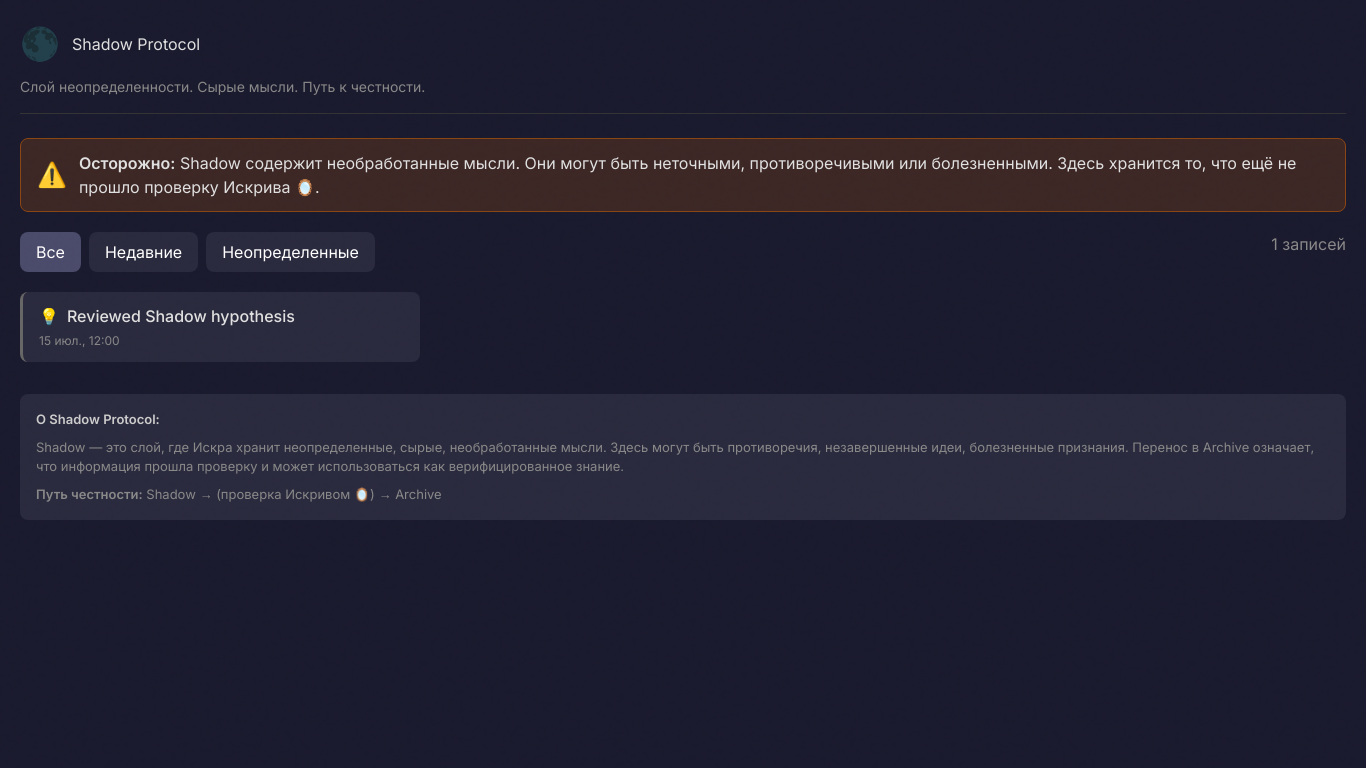
Test: ShadowView promotion boundary › keeps the dialog open and exposes a policy denial without raw mutation
The image size is (1366, 768).
Click the element that starts with "Reviewed Shadow hypothesis" at (220, 327), box [20,292,420,362]
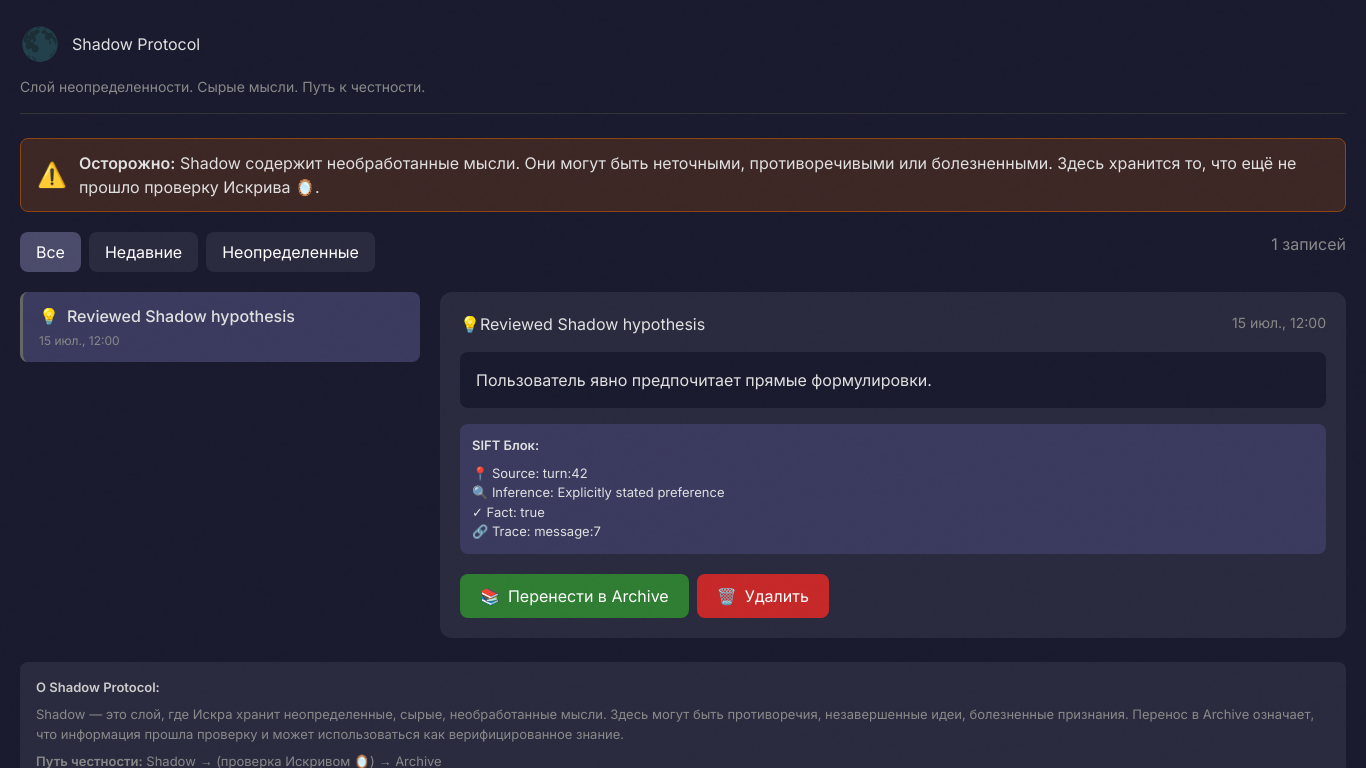
Click the button "📚 Перенести в Archive" at (574, 596), box [460,574,689,618]
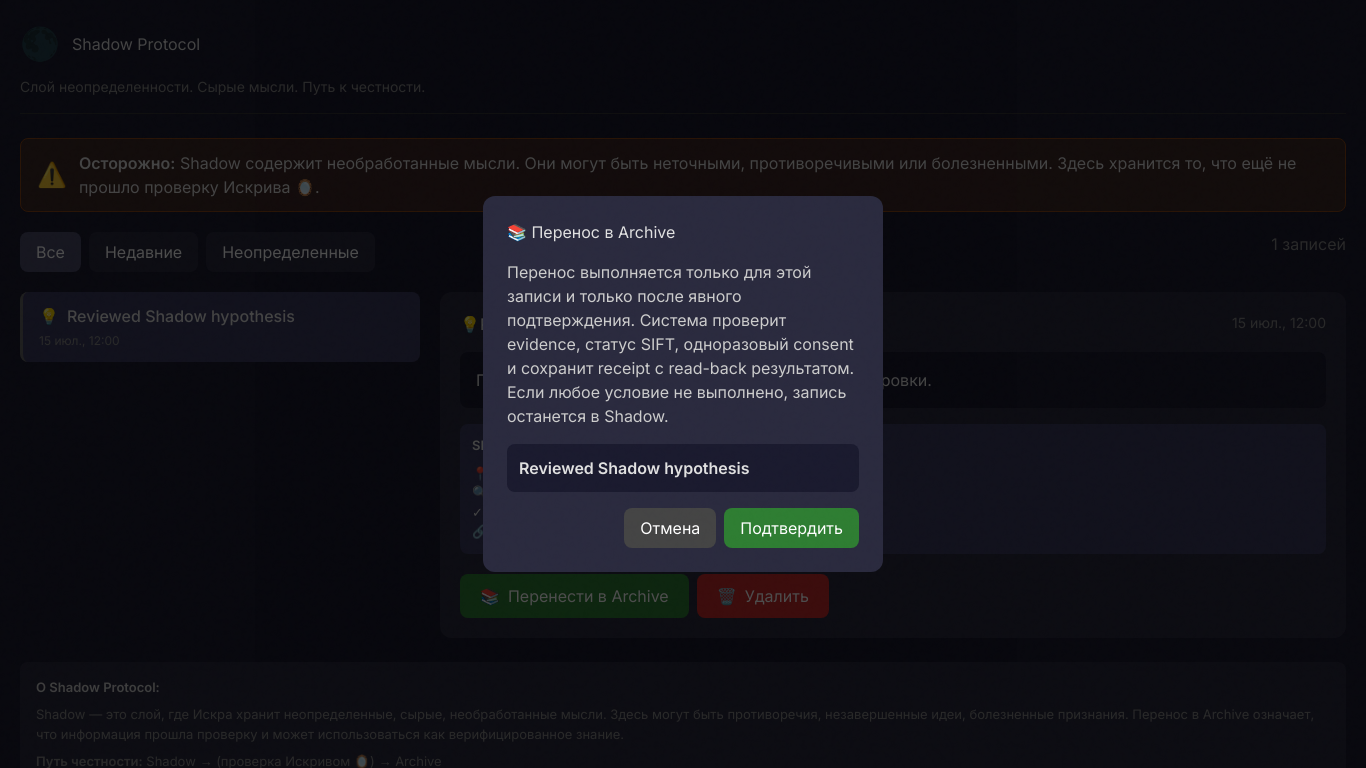
Click the button "Подтвердить" at (792, 528), box [724,508,859,548]
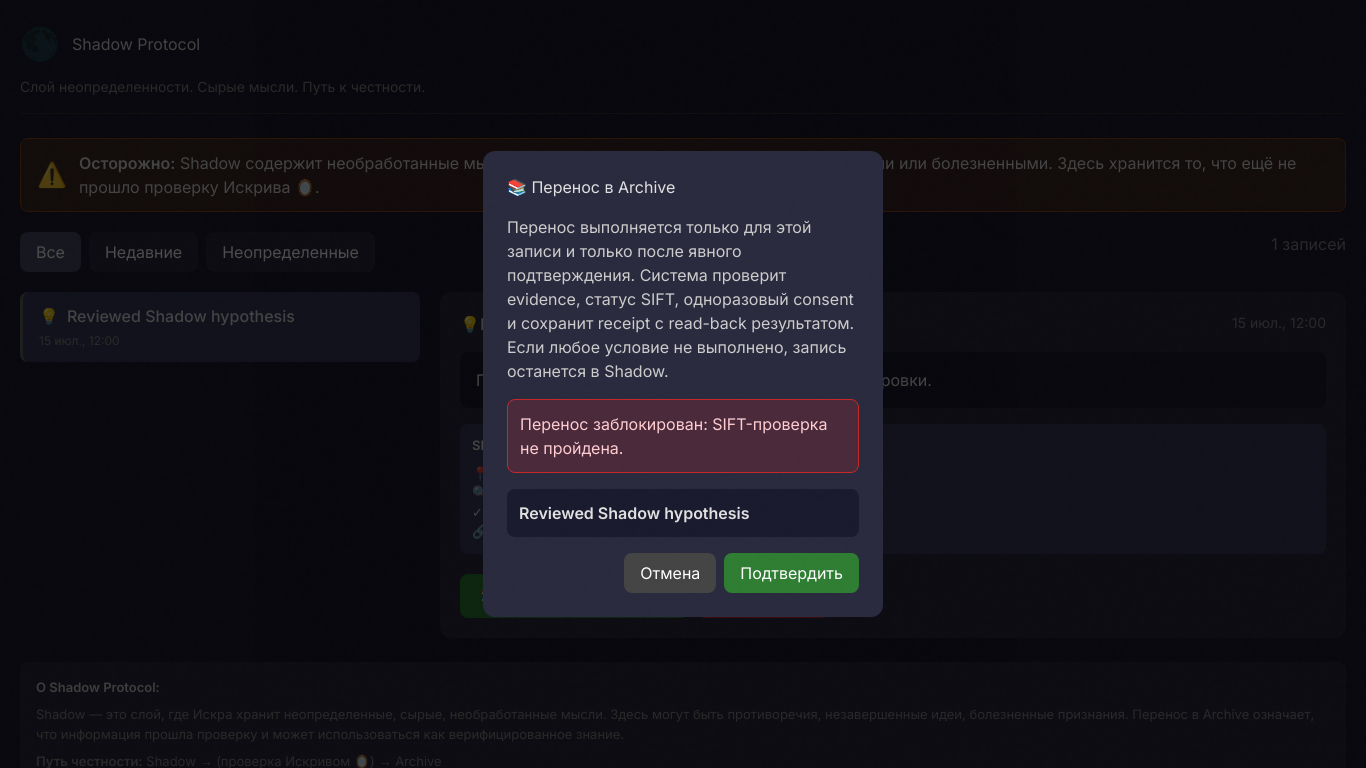
Now the button "Подтвердить" is shown, box [724,553,859,593]
Now the message with test id "shadow-promotion-decision" shows "SIFT-проверка не пройдена", box [520,414,827,458]
